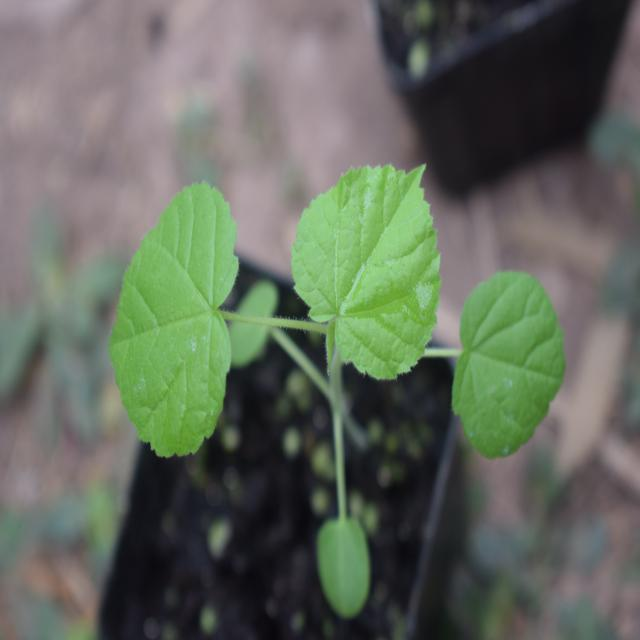abutilon theophrasti: (91, 158, 548, 508)
